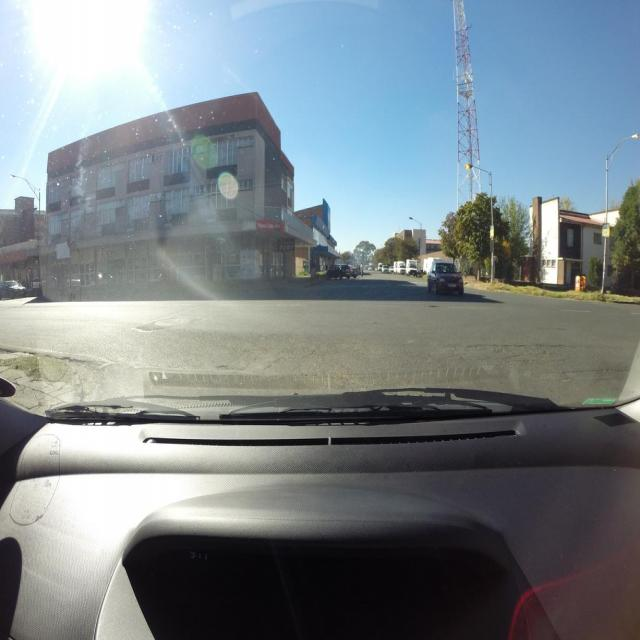Pothole: (62, 357, 98, 368), (217, 364, 235, 371), (428, 306, 440, 308)
